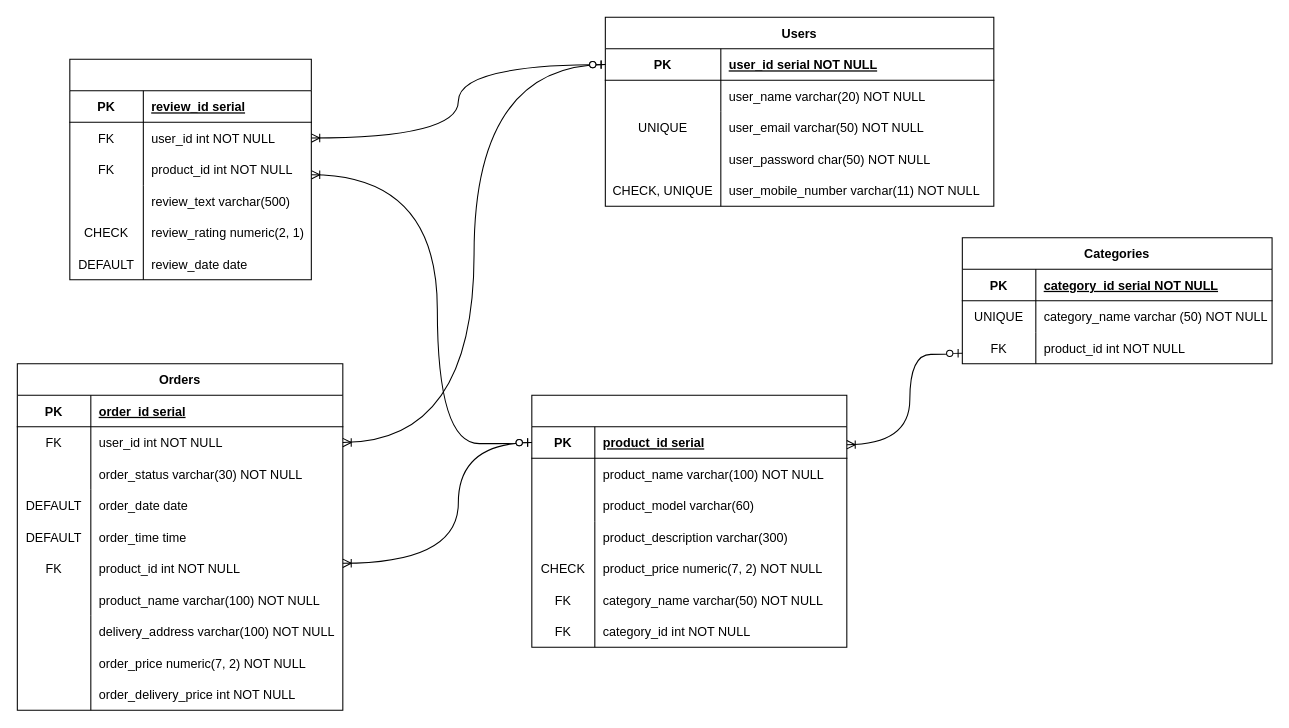
This 1289x728 diagram has some shape labels left out. The shapes that lost their labels are listed below. From the top down, each one's box as (x1, y1, x2, y2) in pixels, then its label:
(69, 58, 311, 280): ProductReviews
(531, 394, 847, 647): Products
